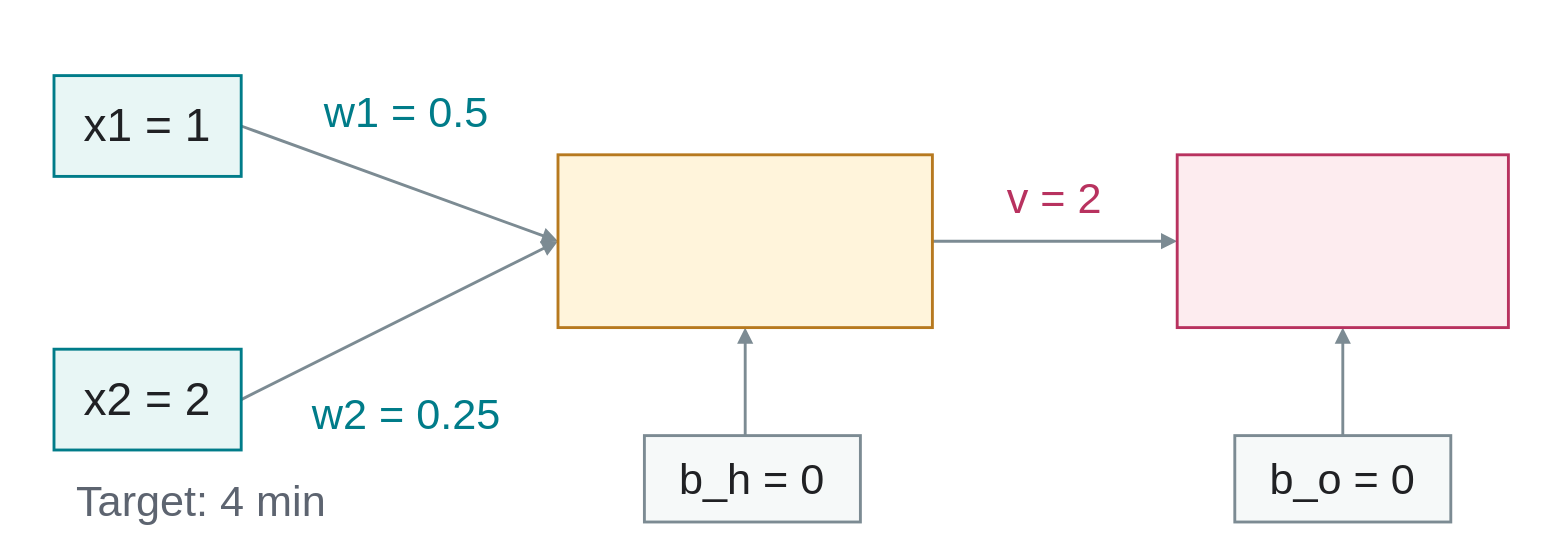
This 1561x560 diagram has some shape labels left out. Here are the shapes that lost their labels. From the top down, the centre of each, then its label:
At (744,240): "z = 1 h = 1".
At (1342,240): "Prediction 2 minutes".
